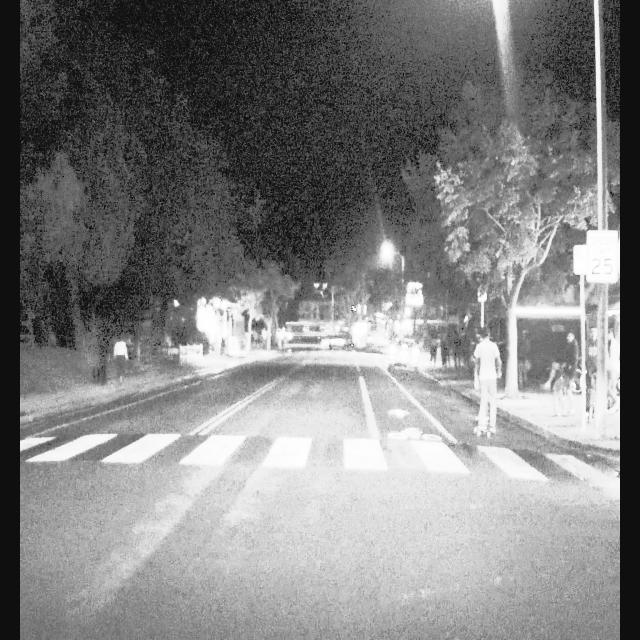Sign: (587, 231, 617, 282), (574, 246, 588, 274)
Tree: (397, 71, 625, 403)
